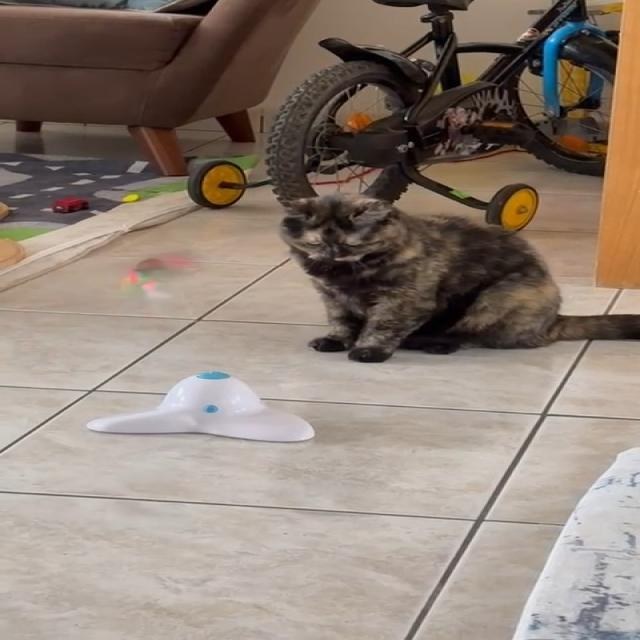authorized: (276, 191, 639, 363)
